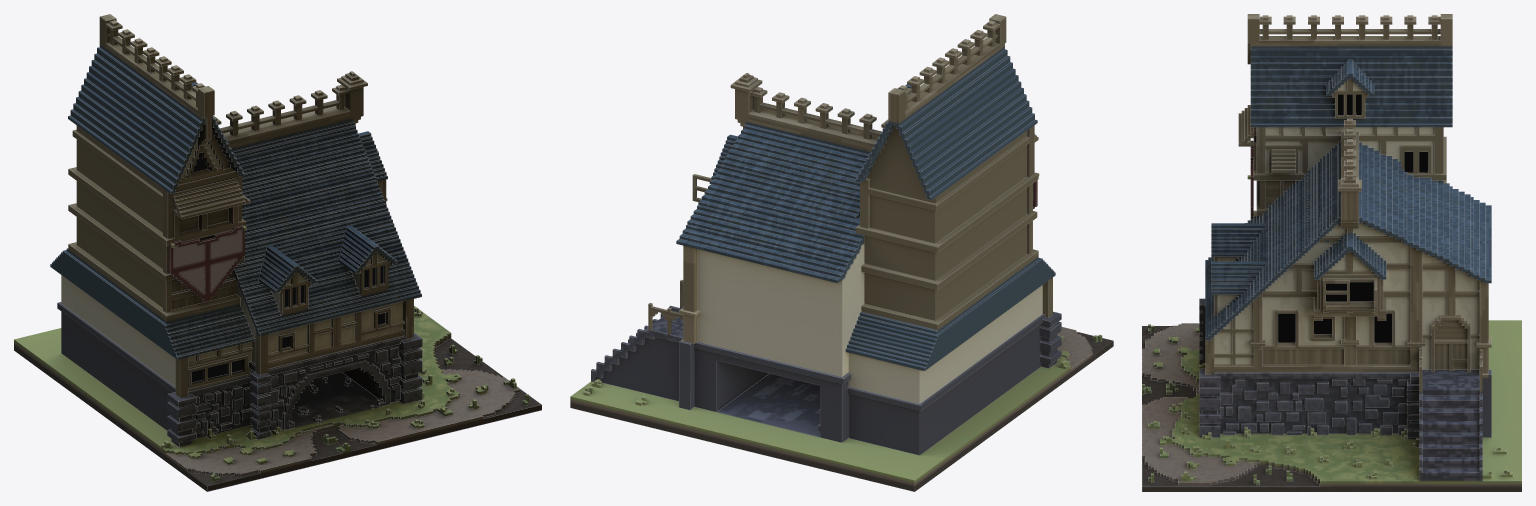
File: House.dae
3 renders of one model, left to right at view 1: azimuth 30°, elevation 25°; view 2: azimuth 150°, elevation 25°; view 3: azimuth 270°, elevation 25°, orthographic. The views are drawn at different scales.
Visible parts, largest first — view 1: House_001; view 2: House_001; view 3: House_001.
Boxes of the visible parts, <box> form: House_001: <box>14,14,541,491</box>; House_001: <box>570,14,1113,491</box>; House_001: <box>1142,14,1521,491</box>.
Size of the model in its own units: 126 by 126 by 125.
